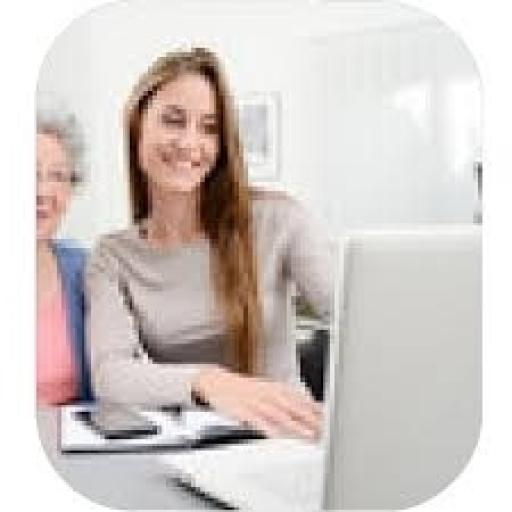using_laptop: (135, 162, 503, 512)
